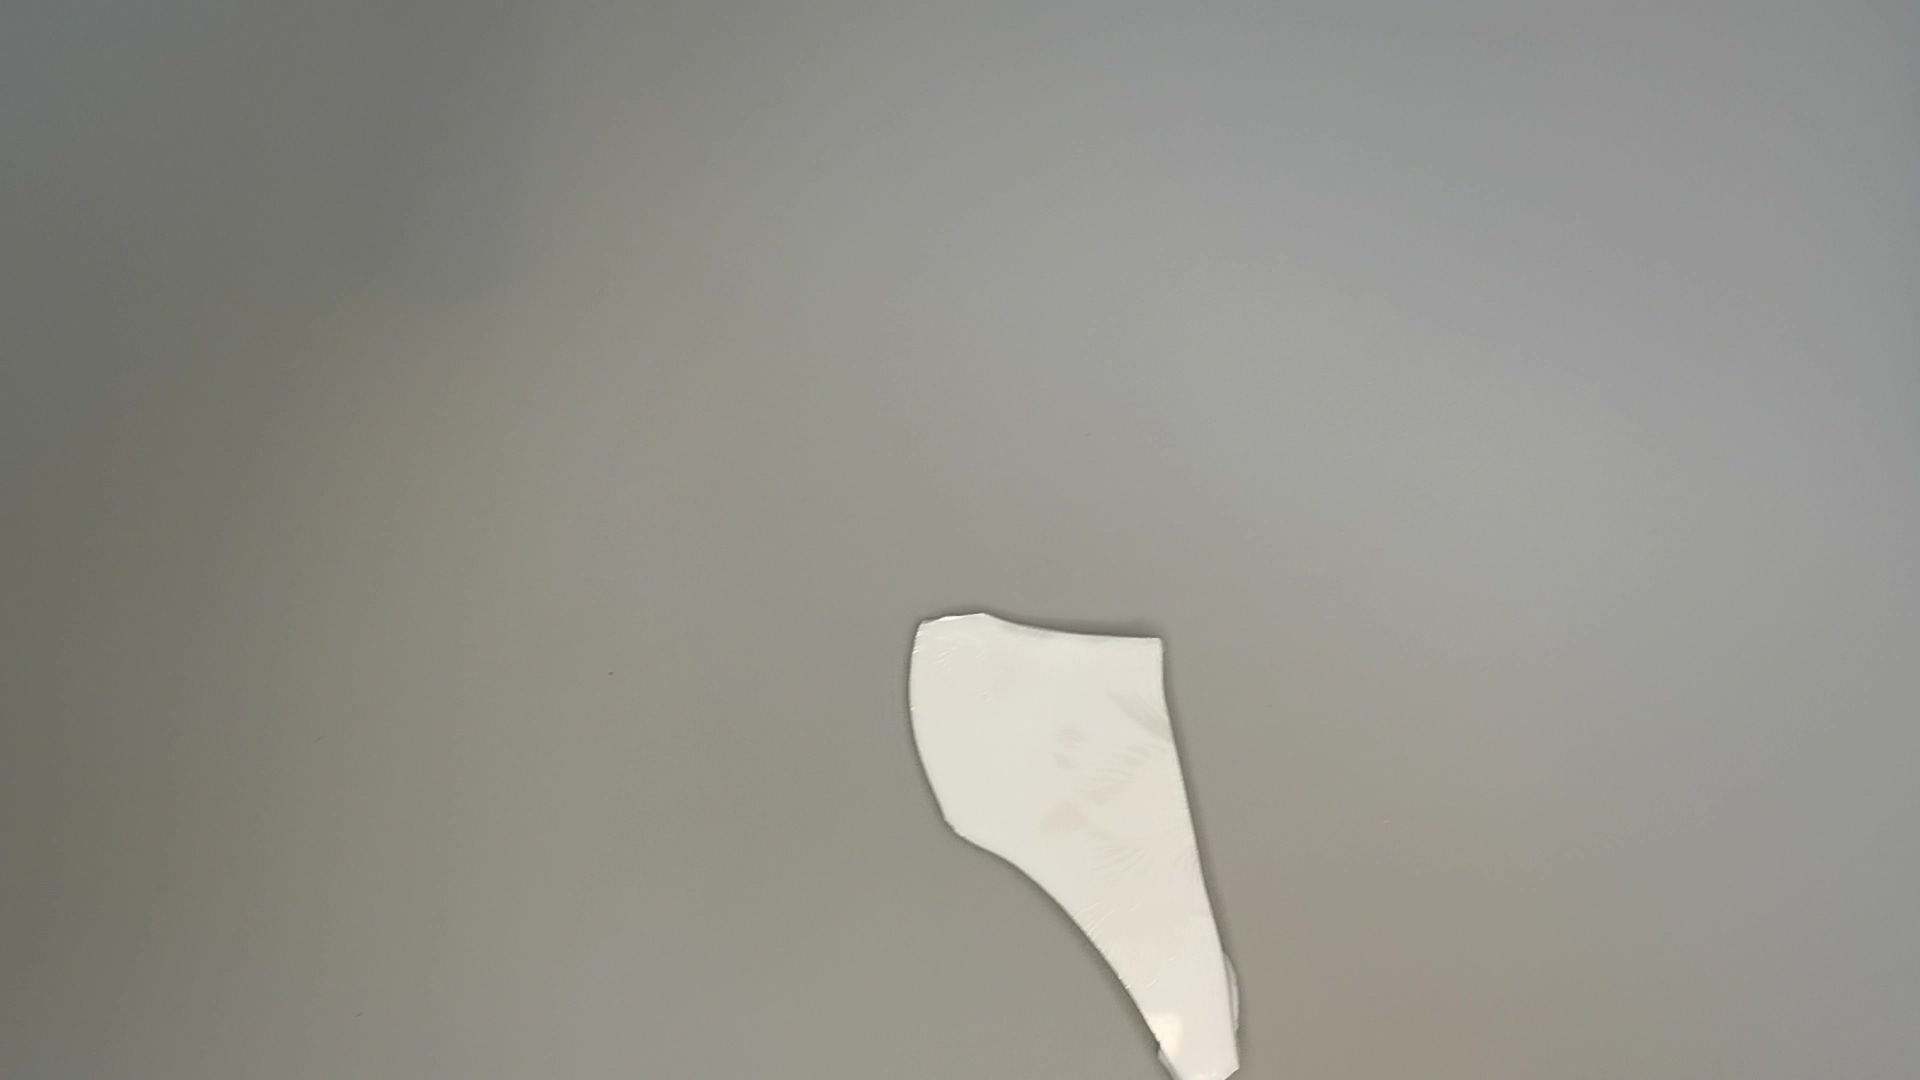ceramic: (899, 604, 1265, 1080)
